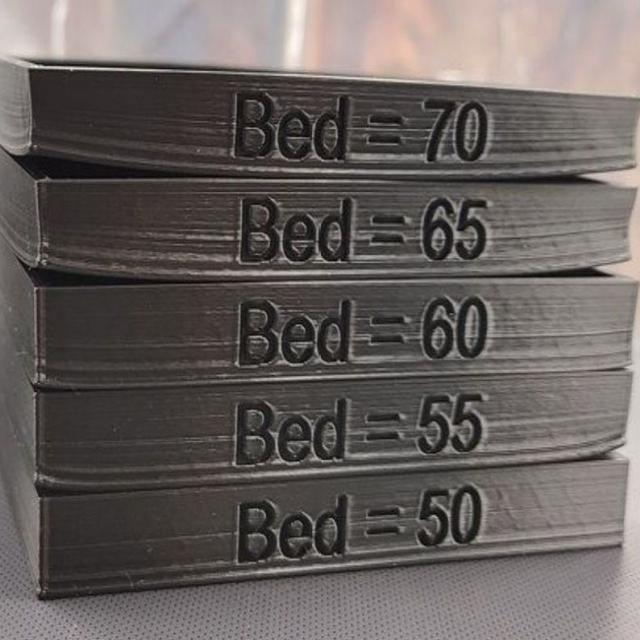Warping: (28, 133, 126, 165), (42, 255, 124, 287), (577, 155, 639, 184), (28, 474, 88, 502), (590, 428, 629, 459), (583, 252, 635, 274)
